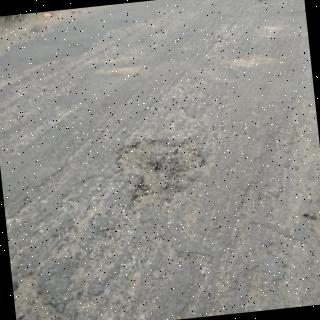pothole: (117, 138, 211, 209)
